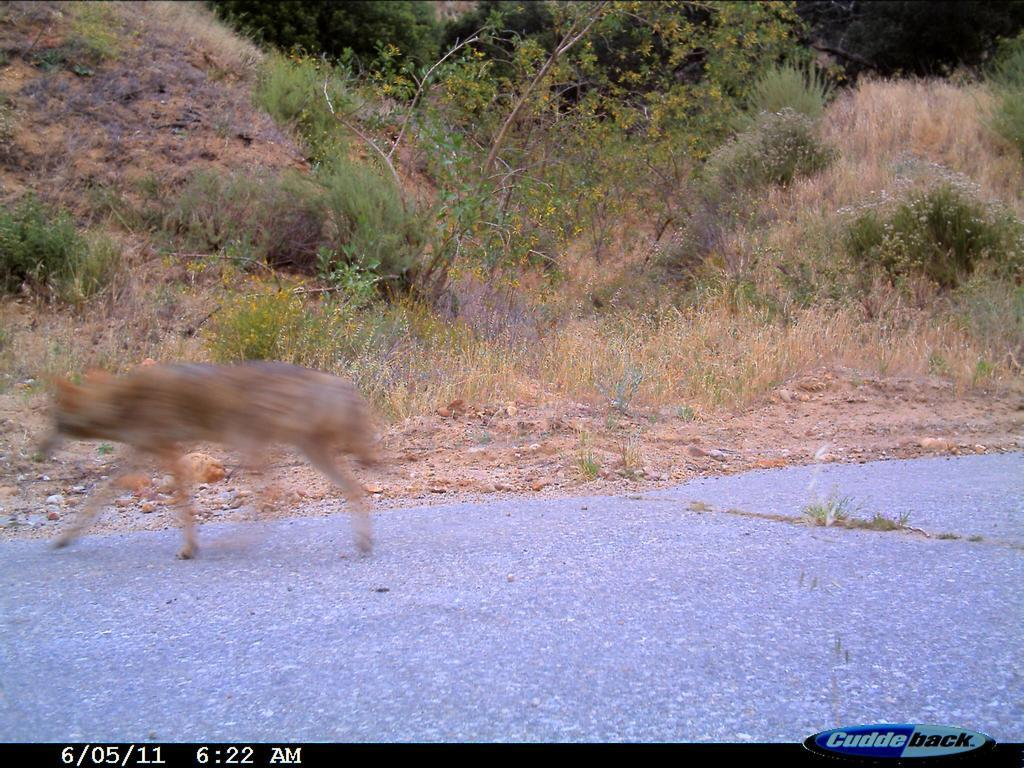coyote: (31, 350, 414, 575)
